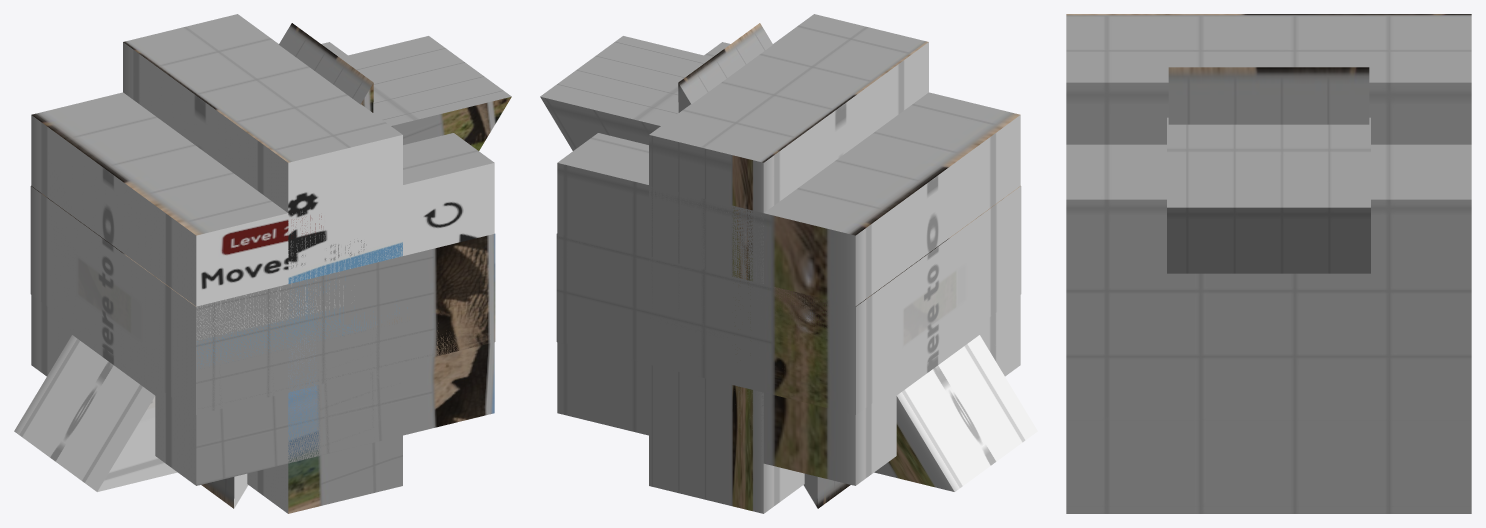
The model's file is puzzle3.fbx.
3 renders of one model, left to right at view 1: azimuth 30°, elevation 25°; view 2: azimuth 150°, elevation 25°; view 3: azimuth 270°, elevation 25°, orthographic. The views are drawn at different scales.
Visible parts, largest first — view 1: Cube.005, Cube.004, Cube.003, Cube, Cube.001, Cube.002; view 2: Cube.005, Cube.004, Cube.003, Cube, Cube.001, Cube.002; view 3: Cube.005, Cube.003, Cube.004, Cube, Cube.001.
Part boxes in pixels (x1=…): Cube.005: x1=31, y1=42, x2=494, y2=485; Cube.004: x1=123, y1=14, x2=402, y2=513; Cube.003: x1=30, y1=186, x2=495, y2=414; Cube: x1=14, y1=36, x2=511, y2=491; Cube.001: x1=279, y1=23, x2=373, y2=112; Cube.002: x1=201, y1=473, x2=248, y2=508; Cube.005: x1=557, y1=42, x2=1020, y2=485; Cube.004: x1=649, y1=14, x2=928, y2=513; Cube.003: x1=556, y1=186, x2=1021, y2=414; Cube: x1=540, y1=36, x2=1037, y2=491; Cube.001: x1=678, y1=23, x2=772, y2=112; Cube.002: x1=803, y1=473, x2=850, y2=508; Cube.005: x1=1066, y1=144, x2=1471, y2=506; Cube.003: x1=1066, y1=287, x2=1471, y2=420; Cube.004: x1=1066, y1=14, x2=1471, y2=513; Cube: x1=1167, y1=117, x2=1370, y2=273; Cube.001: x1=1168, y1=67, x2=1369, y2=124.
Bounding box in the file's own units: 635 × 573 × 438.
